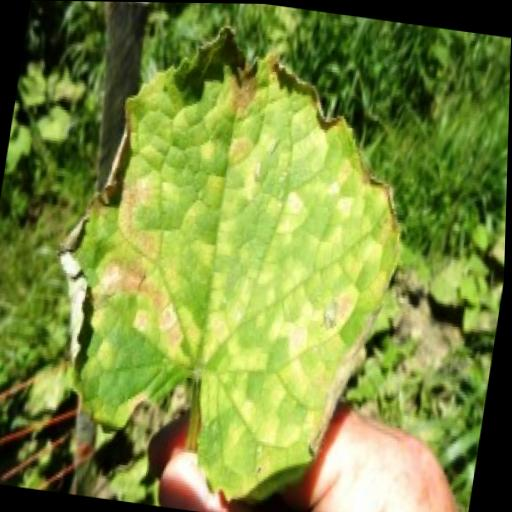Bacterial Spot: (13, 0, 450, 512)
